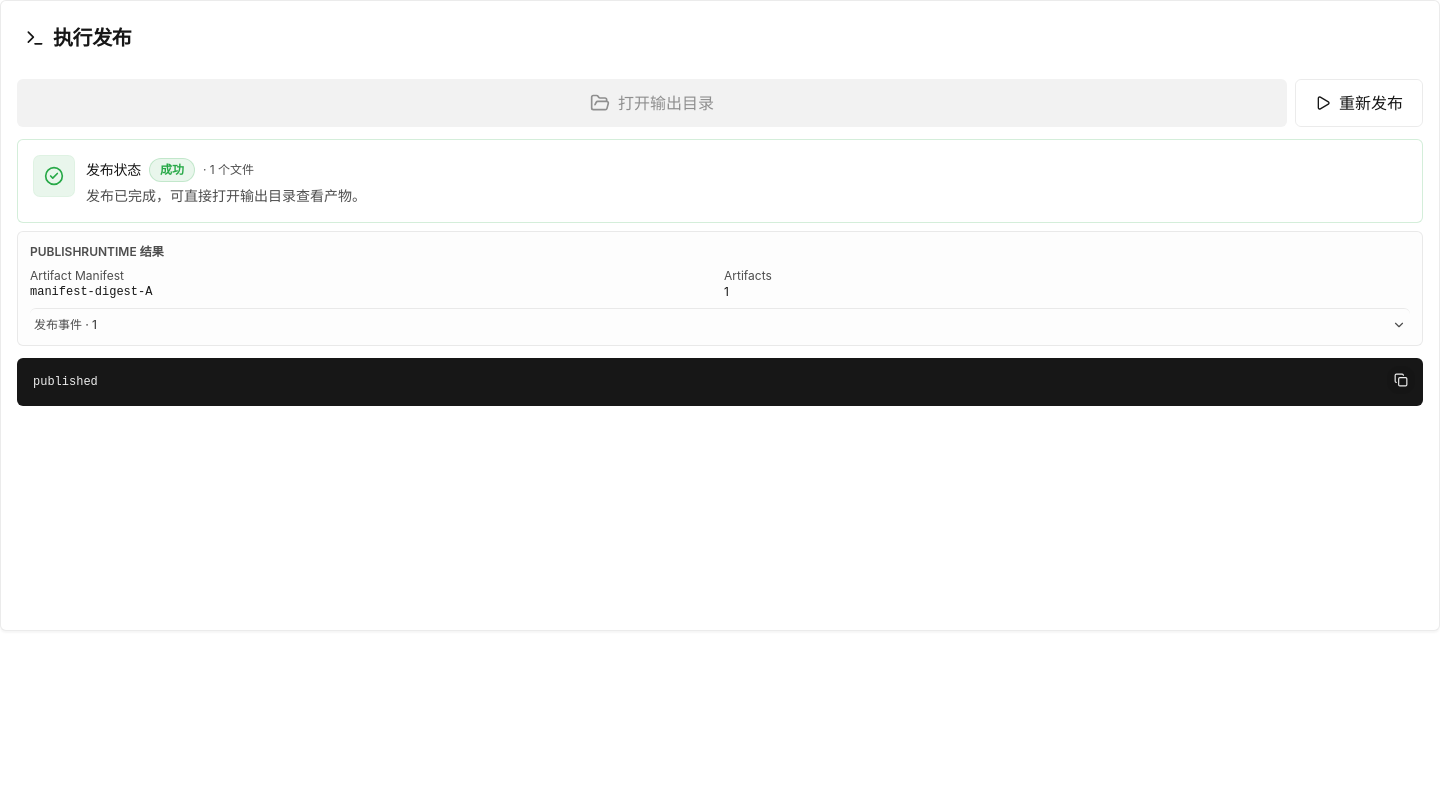
PublishRunCard › 事件时间线默认收起，点击后展开事件明细
Click the button "发布事件 · 1" at point(58, 324), box [30,308,1410,333]
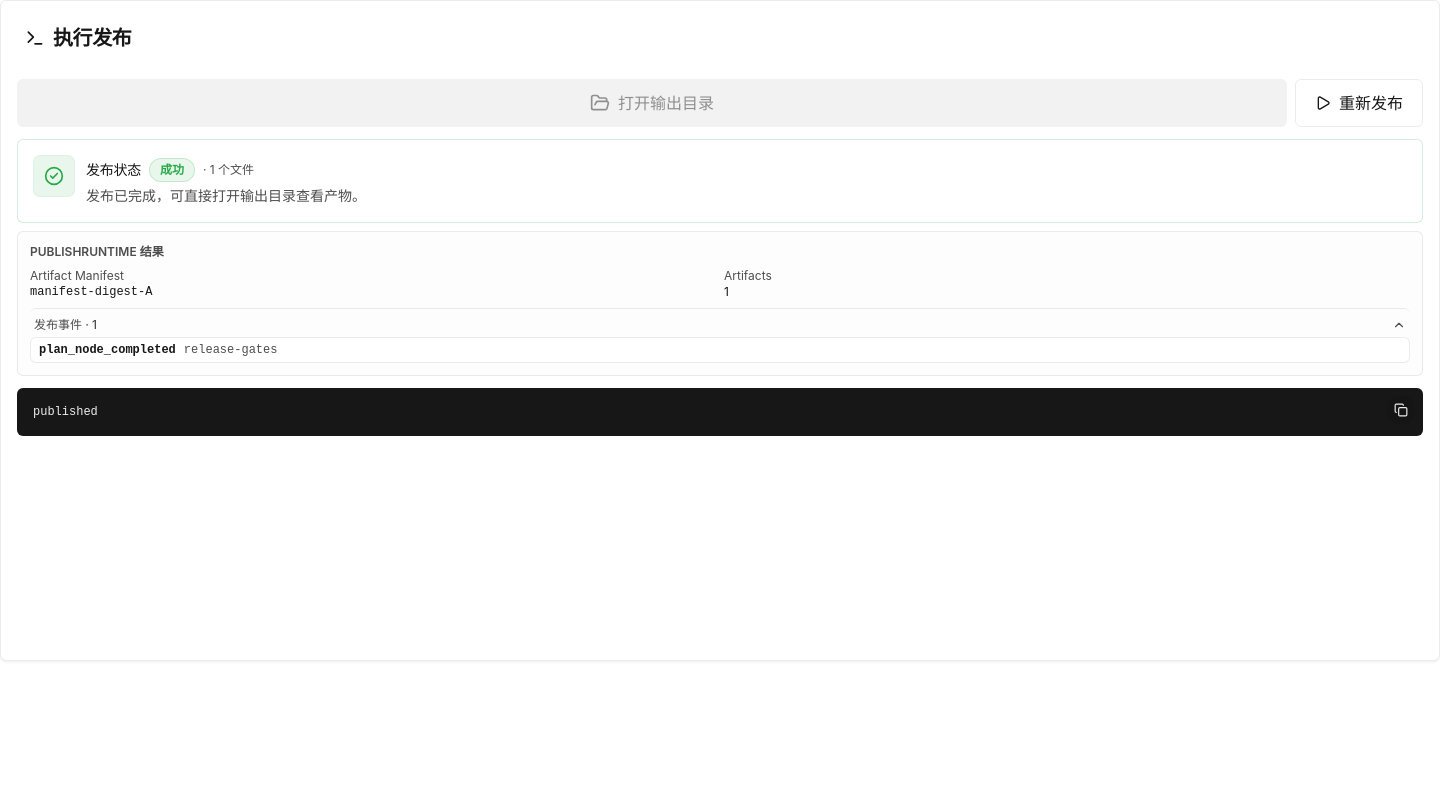
Expected: the list item with test id "publish-event-event-gate-A" shows "plan_node_completed", [39,343,176,357]
Result: the button "发布事件 · 1" is expanded at [30,308,1410,333]
